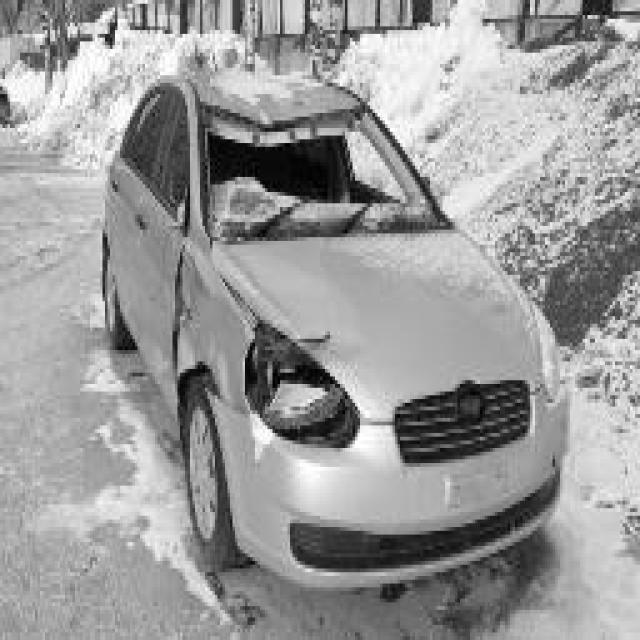Fender: (169, 228, 263, 412)
Light: (237, 327, 360, 452)
Windshield: (198, 105, 440, 230)
